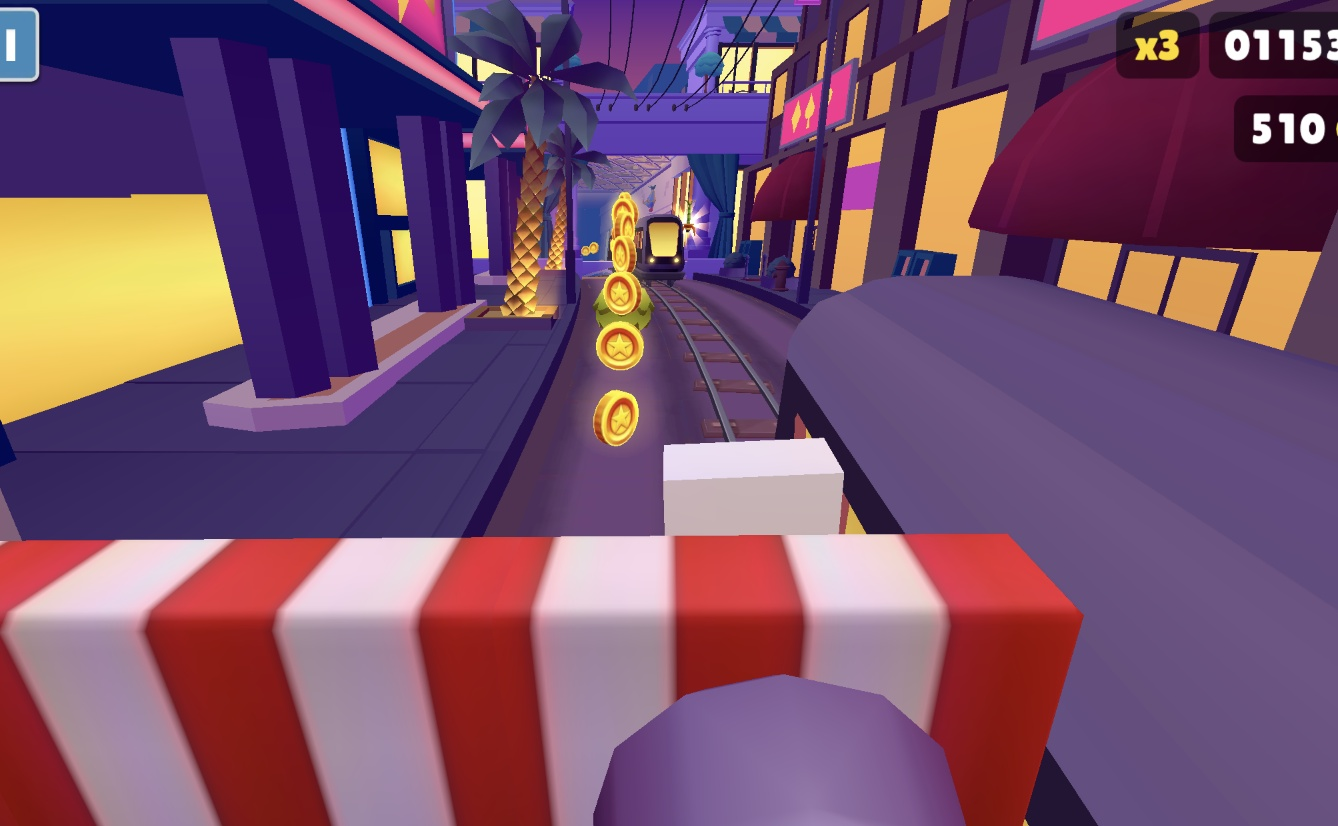overhead_barrier: (0, 439, 1083, 826)
train: (739, 245, 1338, 826), (637, 225, 691, 277)
